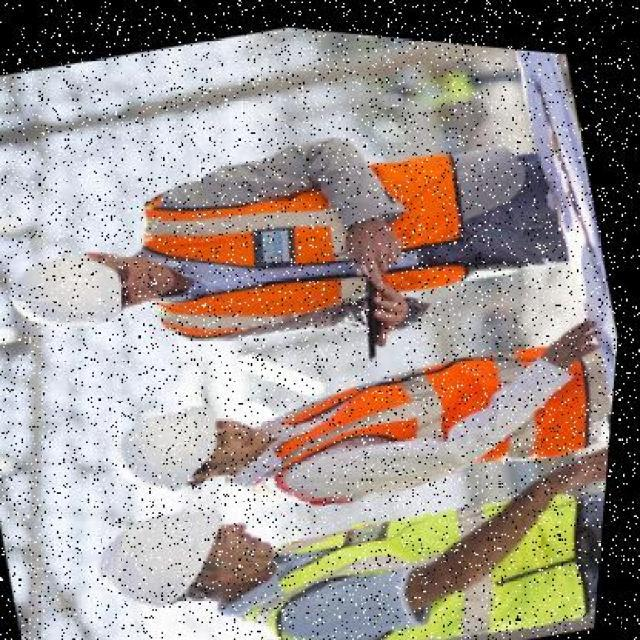helmet: (78, 478, 274, 638), (90, 374, 255, 514), (2, 226, 160, 360)
vest: (112, 94, 506, 375), (232, 288, 608, 538), (239, 431, 613, 639)
